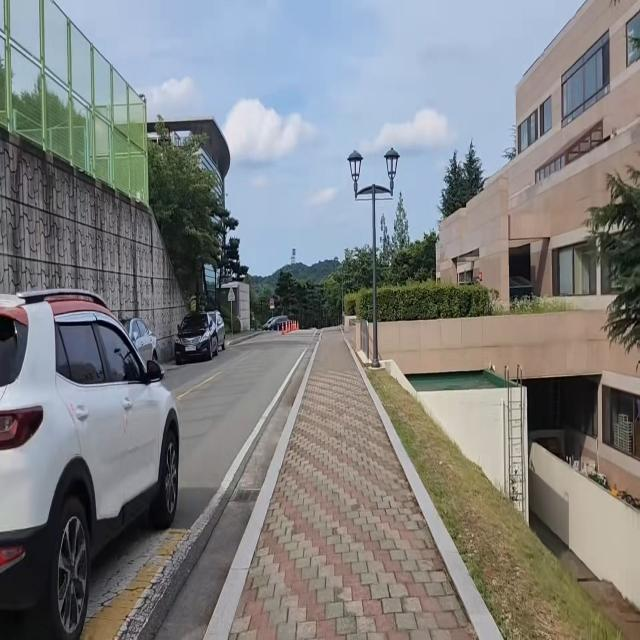obstacle: (0, 284, 181, 640)
road: (90, 326, 323, 640)
sidewalk: (208, 317, 507, 640)
